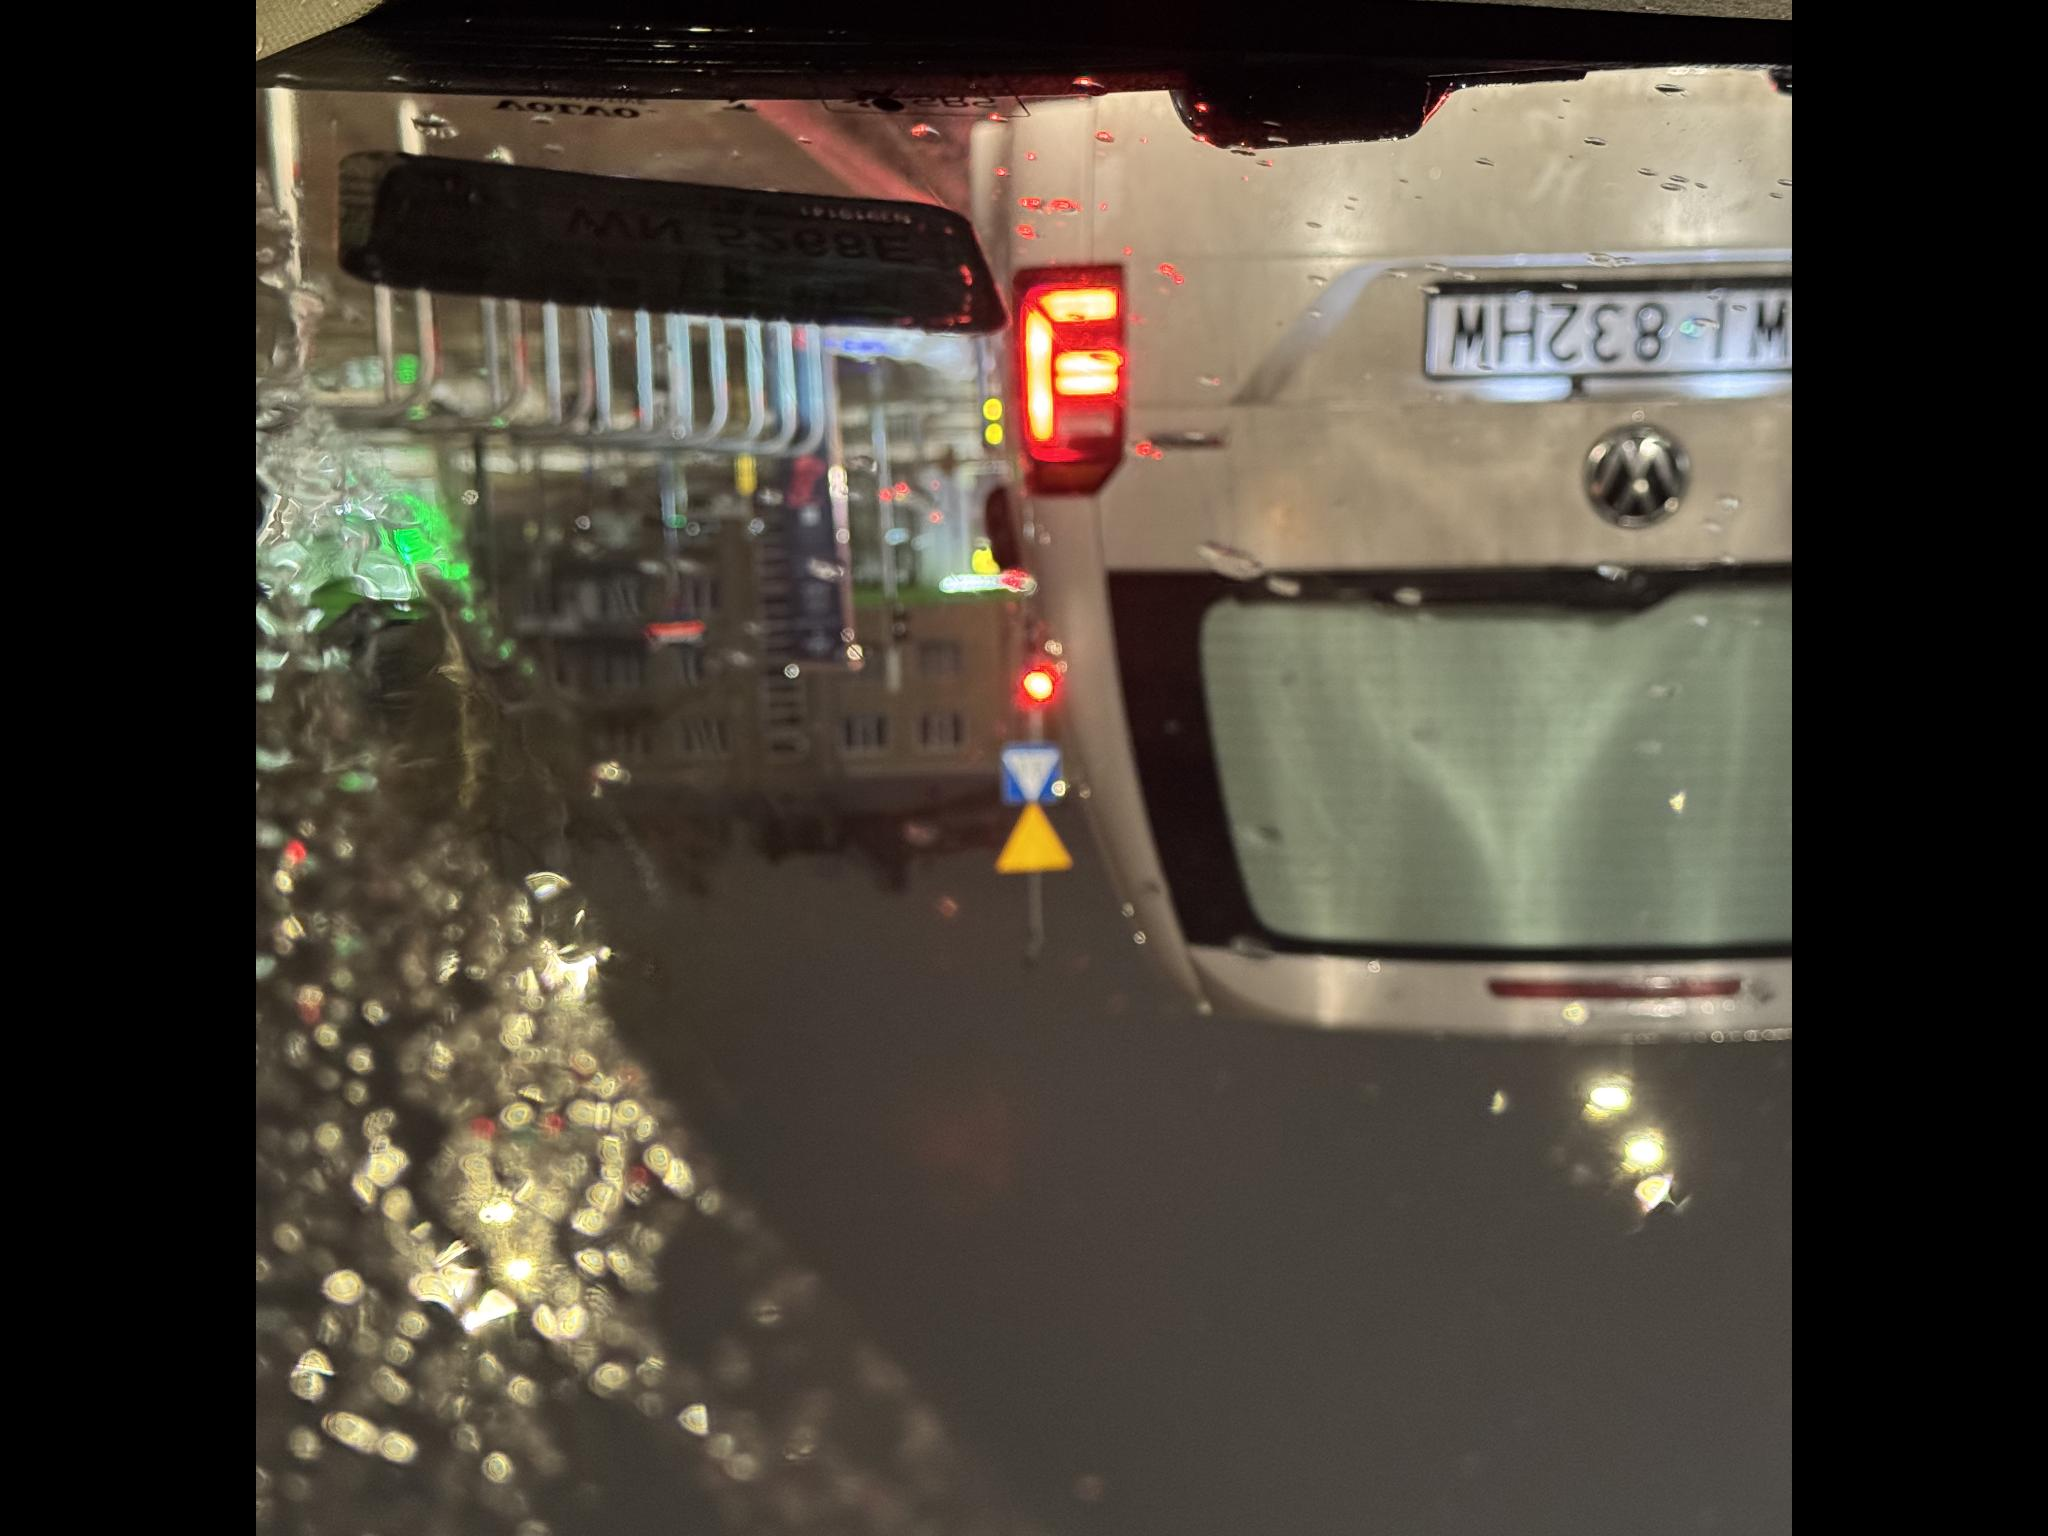information: (1248, 997, 1306, 1065)
warning: (1174, 992, 1247, 1073)
